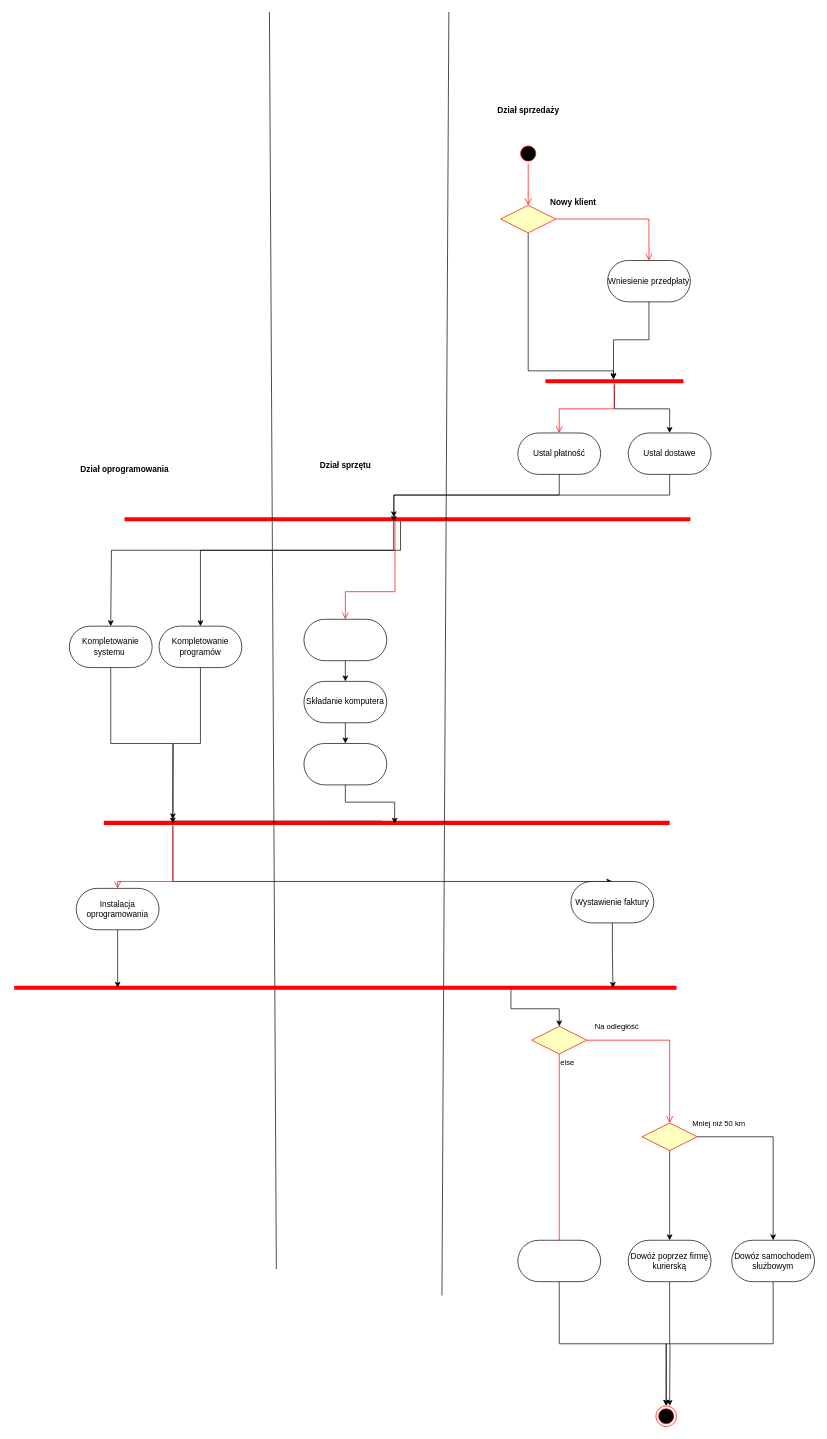
This 827x1439 diagram has some shape labels left out. Here are the shapes that lost their labels. From the top down, the centre of each, then its label:
(x=345, y=640): Przygotowanie czesci
(x=345, y=764): Przekazanie komputera
(x=559, y=1261): Odbiór osobisty
